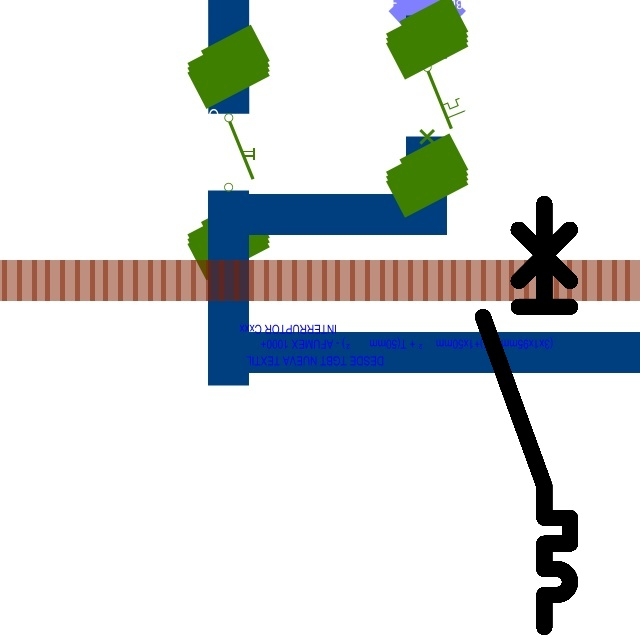interruptor_termomagnetico: (472, 193, 581, 638)
